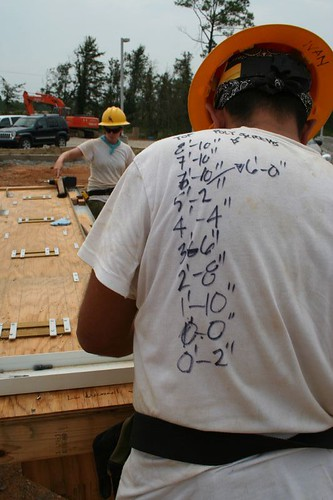person hardhat: (96, 24, 333, 500), (50, 104, 147, 206)
